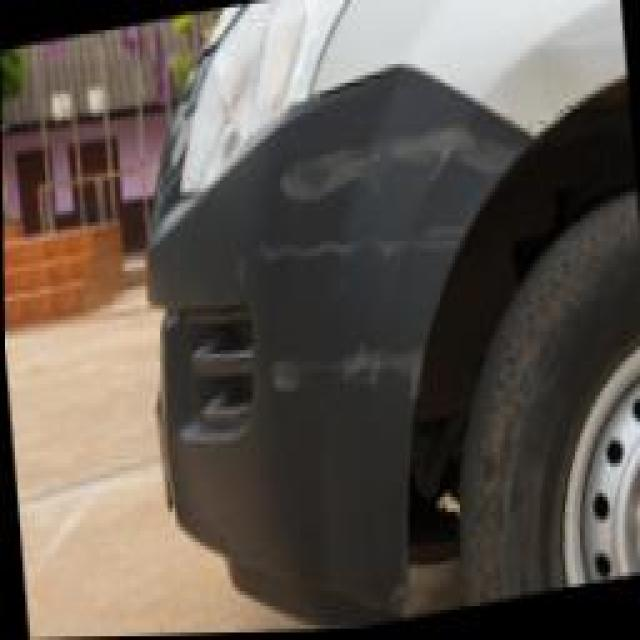Bumper: (228, 79, 527, 444)
